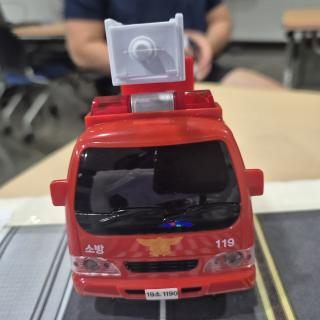Fire_truck: (50, 13, 264, 300)
